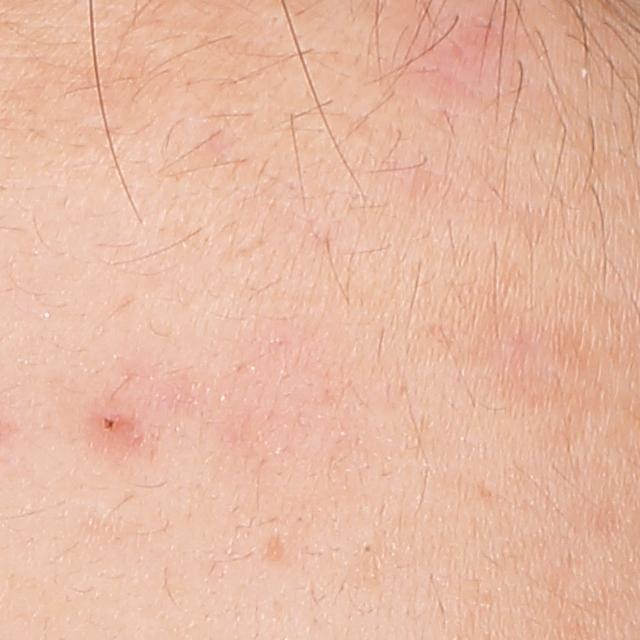atrophic_scar: (260, 532, 286, 563)
papule: (92, 400, 136, 444)
